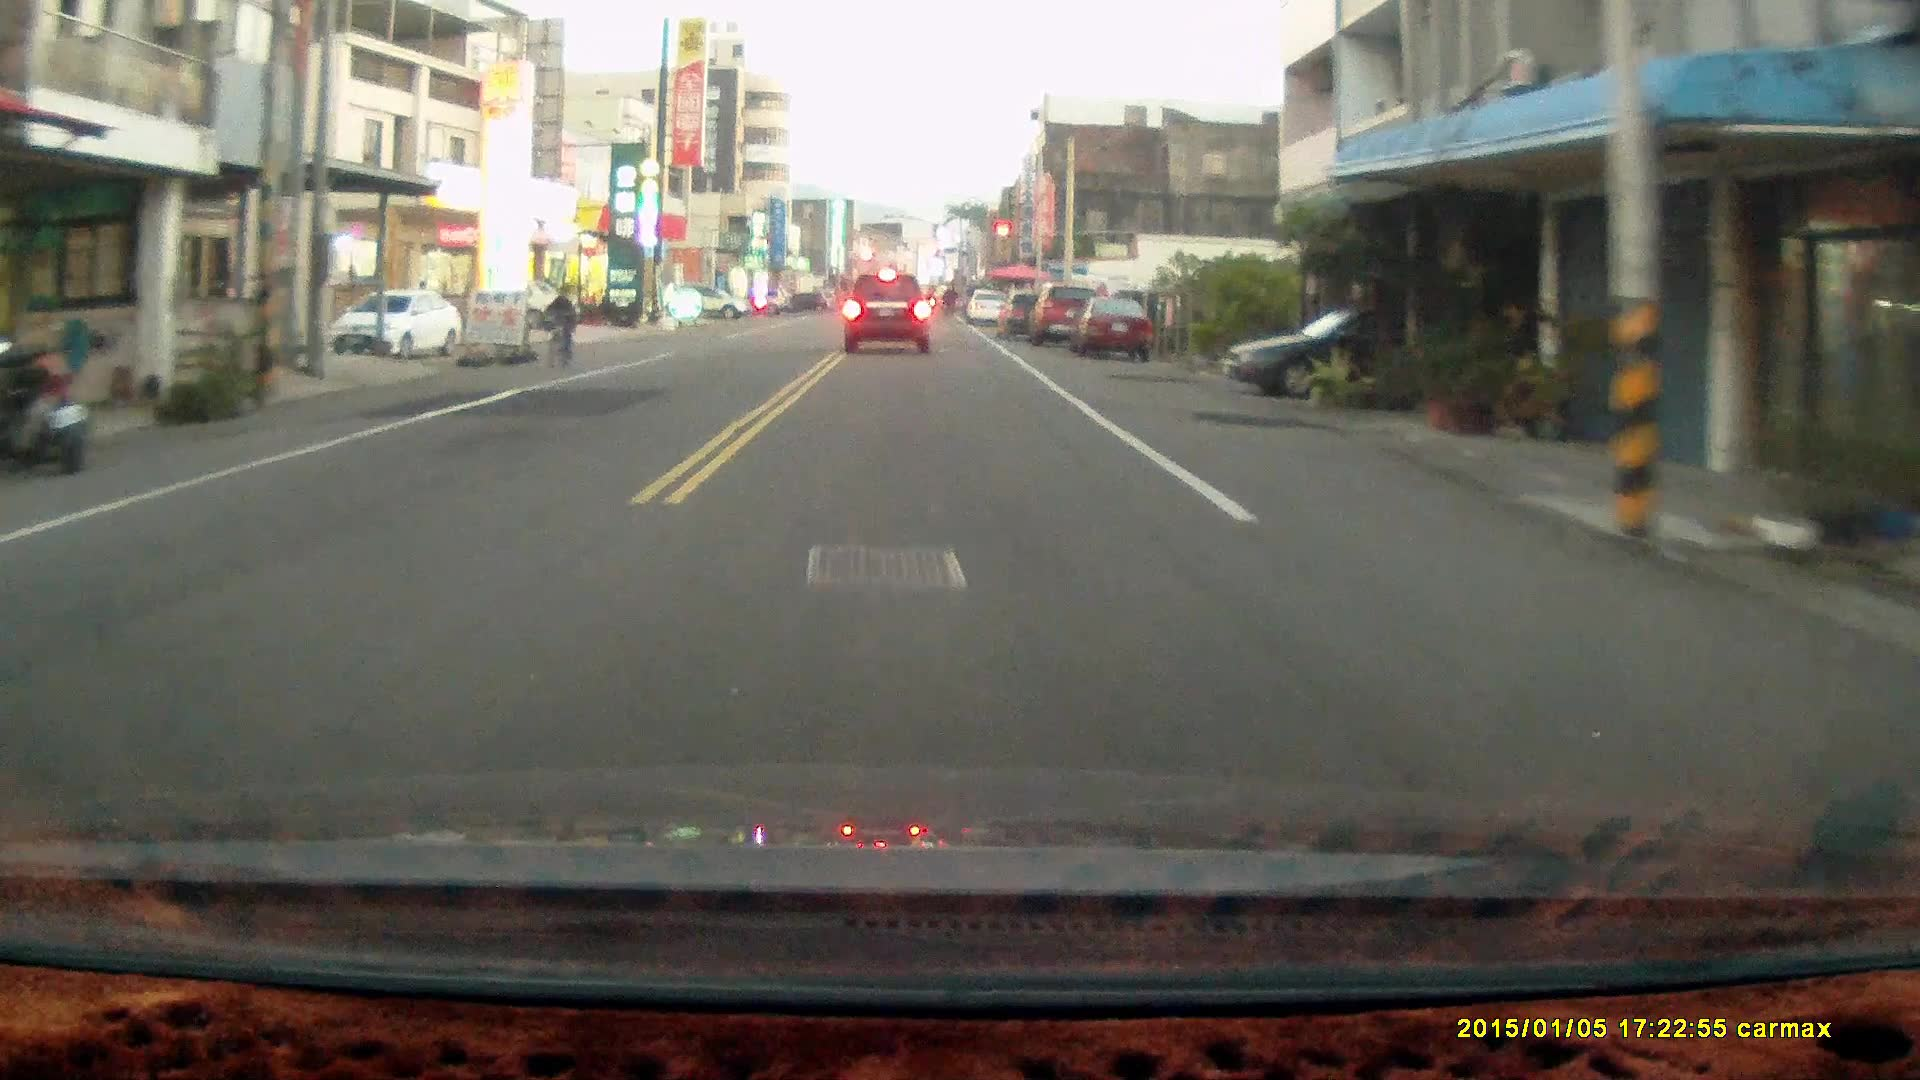rider: (545, 284, 574, 372)
vehicle: (1220, 317, 1464, 398), (332, 292, 461, 363), (840, 276, 936, 361), (458, 282, 584, 339), (1070, 297, 1154, 366), (664, 284, 749, 323)
